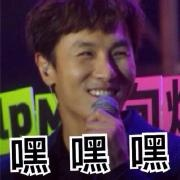Mask: (62, 41, 142, 120)
